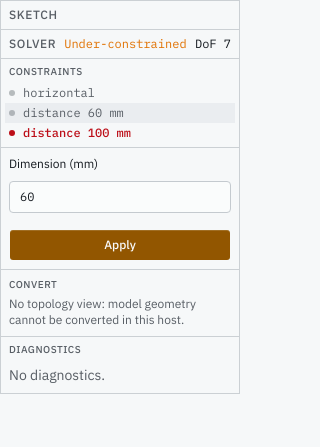
Test case: CadSketchInspector › surfaces the apply surface's structured refusal verbatim
Replace the text in the number field with "99": (120, 197) [9,181,231,213]
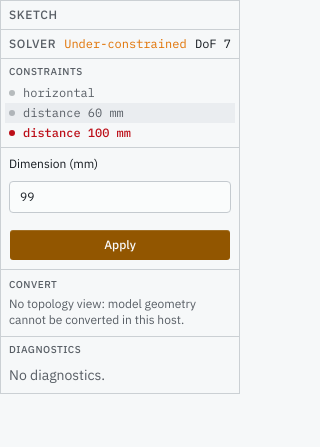
Click the button "Apply": (120, 245) [9,229,231,261]
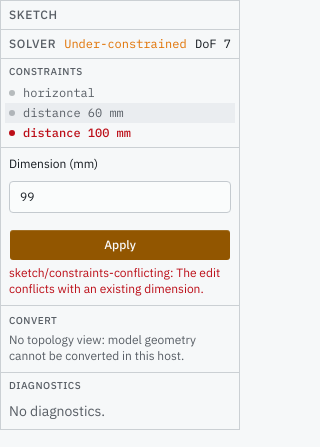
Now the message with test id "sketch-dimension-error" shows "sketch/constraints-conflicting", box [9,265,220,296]
